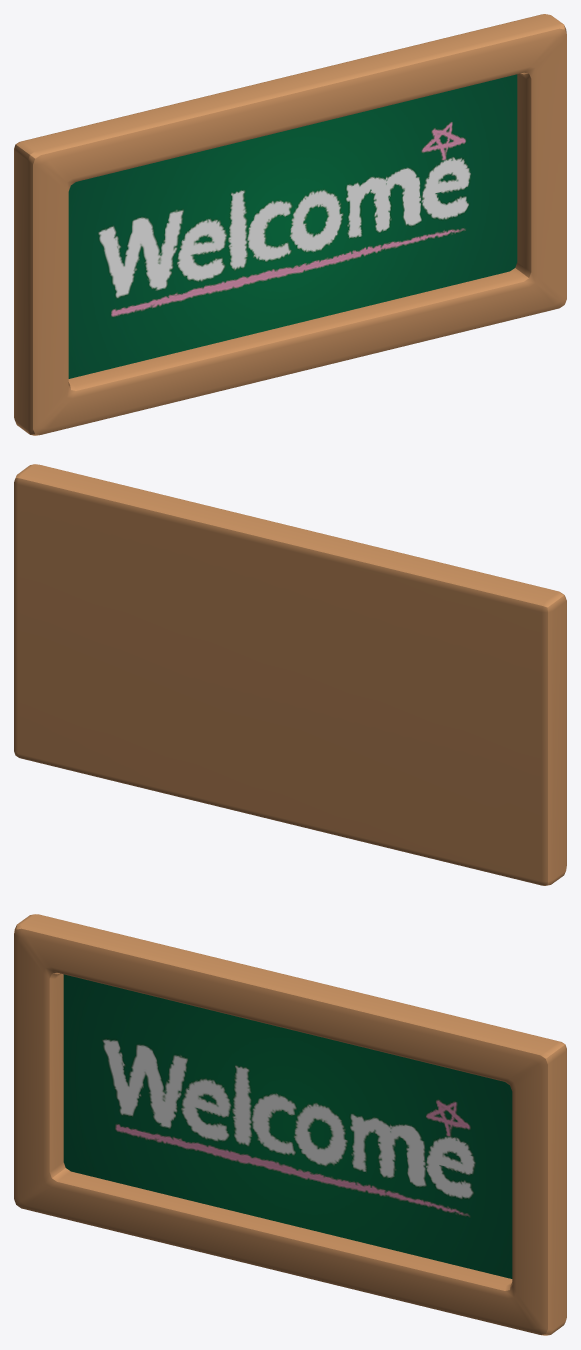
Rendered from dodam_Prop_welcome.fbx.
The picture shows the model from 3 angles, top to bottom: view 1: azimuth 30°, elevation 25°; view 2: azimuth 150°, elevation 25°; view 3: azimuth 330°, elevation 25°; orthographic projection.
Parts seen in each view (by area): view 1: dodam_welcome; view 2: dodam_welcome; view 3: dodam_welcome.
Part boxes in pixels (bbox=[...]): dodam_welcome: bbox=[14, 14, 566, 435]; dodam_welcome: bbox=[14, 464, 566, 885]; dodam_welcome: bbox=[14, 914, 566, 1335].
Bounding box in the file's own units: 38 × 19.18 × 2.62.
Materials: 2 (2 with a texture image).
